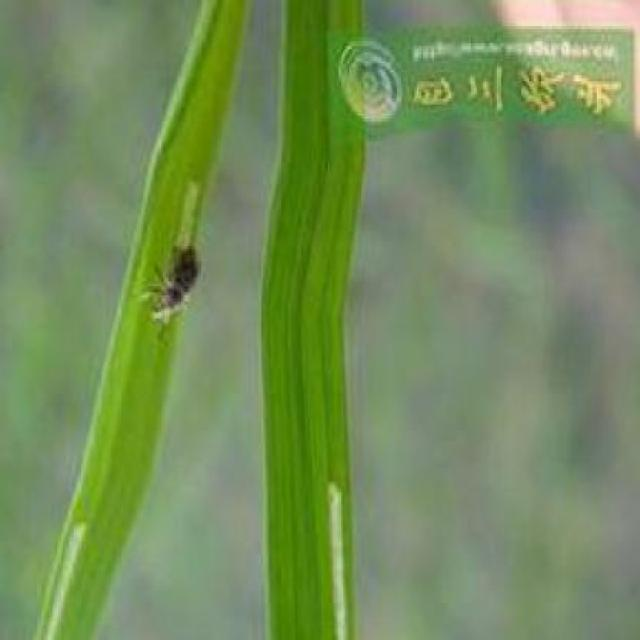rice-bug: (140, 241, 205, 328)
